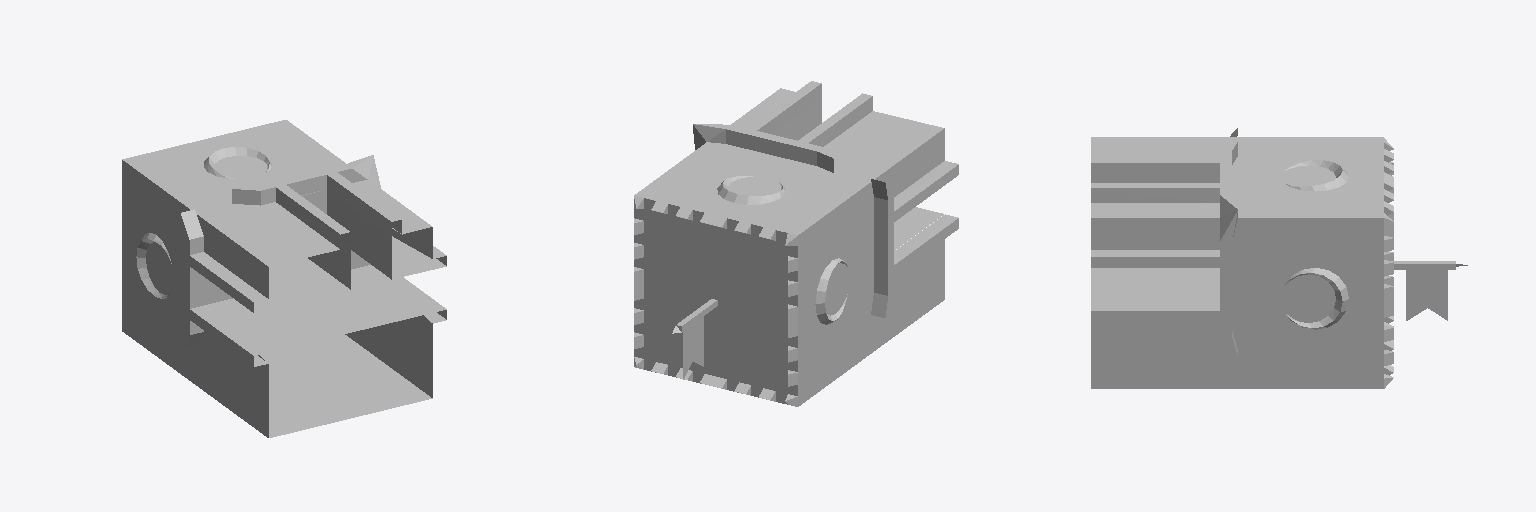
3 renders of one model, left to right at view 1: azimuth 30°, elevation 25°; view 2: azimuth 150°, elevation 25°; view 3: azimuth 270°, elevation 25°, orthographic.
Visible parts, largest first — view 1: garrison, garrison.002, garrison.001; view 2: garrison, garrison.002, garrison.003_garrison.004, garrison.001, flag; view 3: garrison, garrison.002, garrison.003_garrison.004, garrison.001, flag.
Boxes of the visible parts, <box> form: garrison: <box>122,120,432,437</box>; garrison.002: <box>181,155,446,366</box>; garrison.001: <box>136,147,271,298</box>; garrison: <box>634,88,944,406</box>; garrison.002: <box>693,81,958,317</box>; garrison.003_garrison.004: <box>634,196,797,406</box>; garrison.001: <box>717,176,847,324</box>; flag: <box>683,317,703,379</box>; garrison: <box>1091,137,1467,388</box>; garrison.002: <box>1091,128,1237,356</box>; garrison.003_garrison.004: <box>1384,138,1393,388</box>; garrison.001: <box>1284,160,1348,329</box>; flag: <box>1406,270,1447,320</box>.
Size of the model in its own units: 4.28 by 3.95 by 7.28.